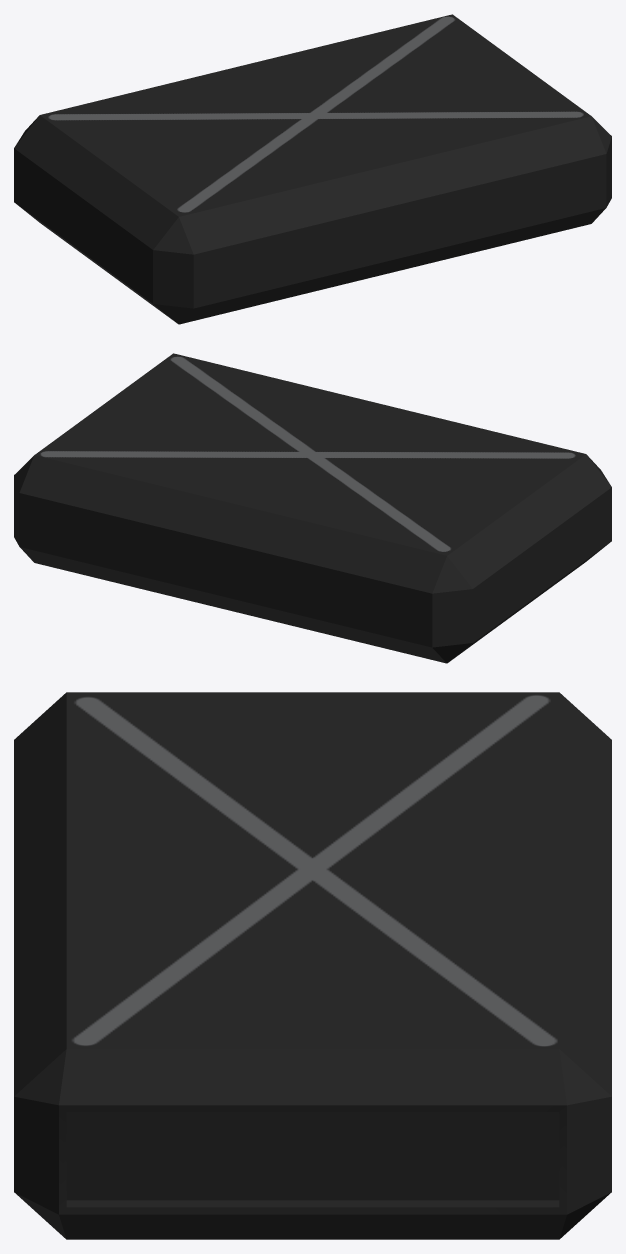
The model's file is Obj_Hardrive.fbx.
3 views of the same model, one above another, from view 1: azimuth 30°, elevation 25°; view 2: azimuth 150°, elevation 25°; view 3: azimuth 270°, elevation 25° (orthographic). The views are drawn at different scales.
Parts seen in each view (by area): view 1: Obj_Hardrive; view 2: Obj_Hardrive; view 3: Obj_Hardrive.
Part boxes in pixels (<box>): Obj_Hardrive: <box>14,14,611,324</box>; Obj_Hardrive: <box>14,353,611,663</box>; Obj_Hardrive: <box>14,692,611,1239</box>.
Bounding box in the file's own units: 0.3192 × 0.072 × 0.2044.
